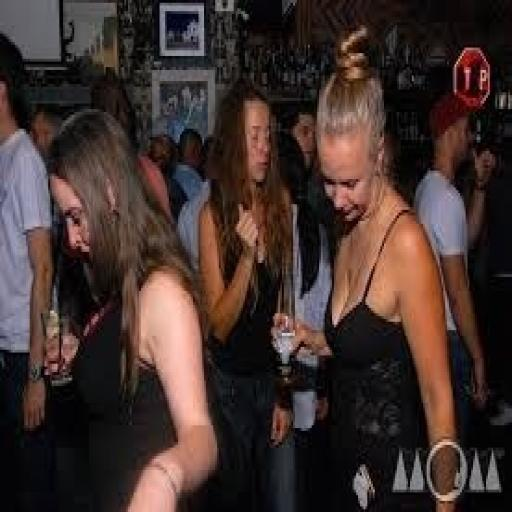dancing: (270, 25, 466, 509)
